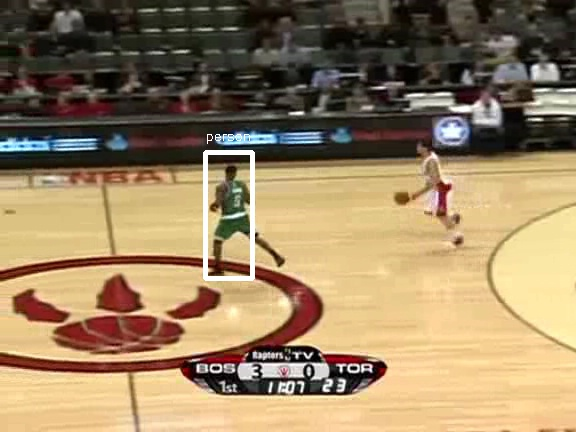person: (219, 171, 253, 252), (218, 171, 252, 252), (220, 171, 254, 252), (219, 170, 253, 251), (219, 172, 253, 253)
target_negative: (195, 10, 366, 165), (3, 13, 127, 88), (194, 297, 373, 347), (498, 369, 546, 409), (482, 251, 488, 354)
